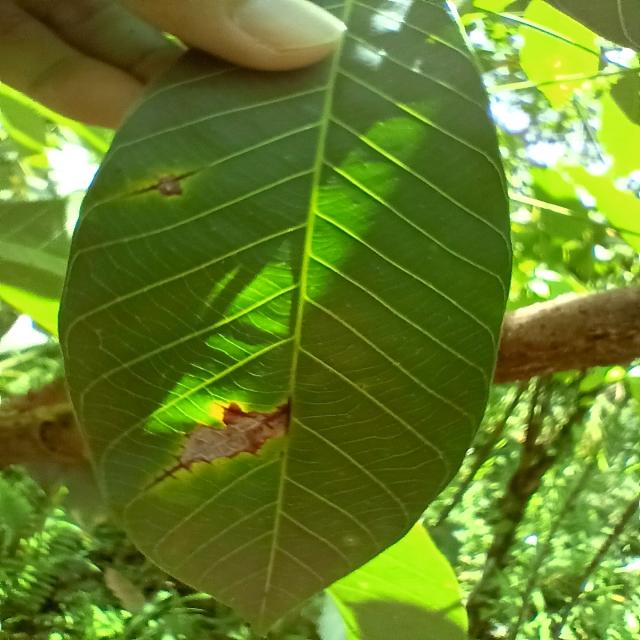Corynespora: (126, 170, 206, 197), (150, 454, 193, 492)
Leaf-Blight: (181, 404, 288, 463)
